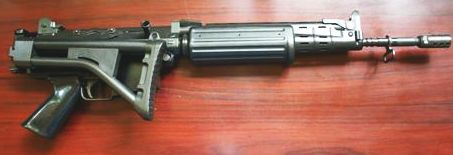rifle: (7, 16, 449, 144)
